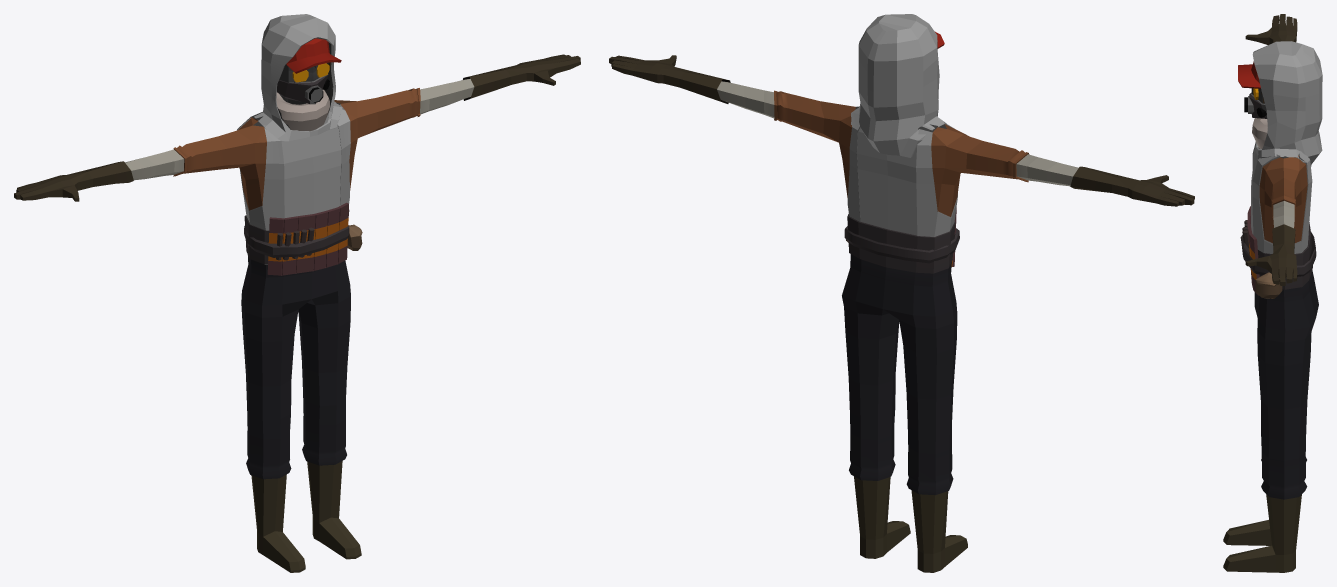
The model's file is GruceBustinModel.fbx.
3 views of the same model, side by side, from view 1: azimuth 30°, elevation 25°; view 2: azimuth 150°, elevation 25°; view 3: azimuth 270°, elevation 25° (orthographic). The views are drawn at different scales.
Parts seen in each view (by area): view 1: CharModel_Bustin; view 2: CharModel_Bustin; view 3: CharModel_Bustin.
Boxes of the visible parts, bbox=[...] form: CharModel_Bustin: bbox=[14, 14, 580, 572]; CharModel_Bustin: bbox=[609, 14, 1194, 572]; CharModel_Bustin: bbox=[1223, 14, 1322, 572].
Bounding box in the file's own units: 193 × 171 × 30.26.
